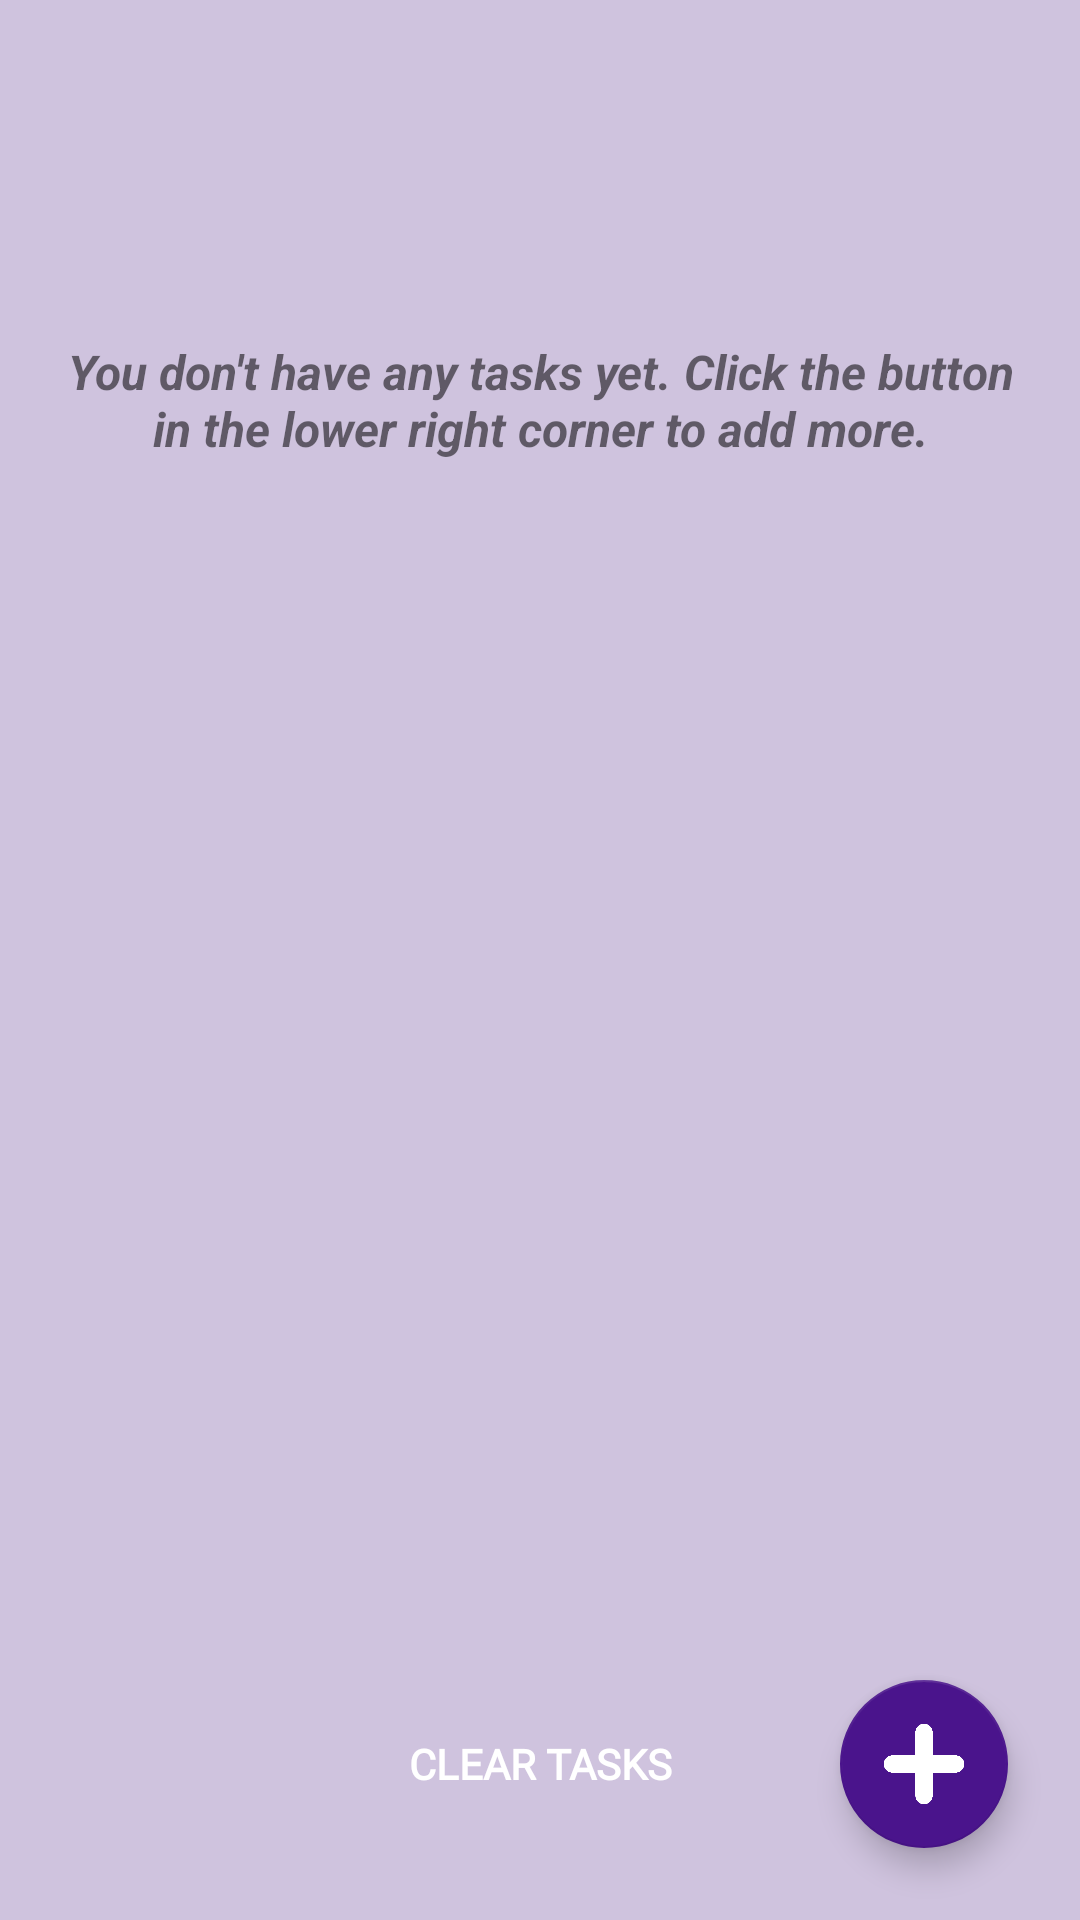

Icons on this 1080 × 1920 Android screen, each with its box as (x1, y1, x2, y2):
Add new task: (840, 1680, 1008, 1848)
